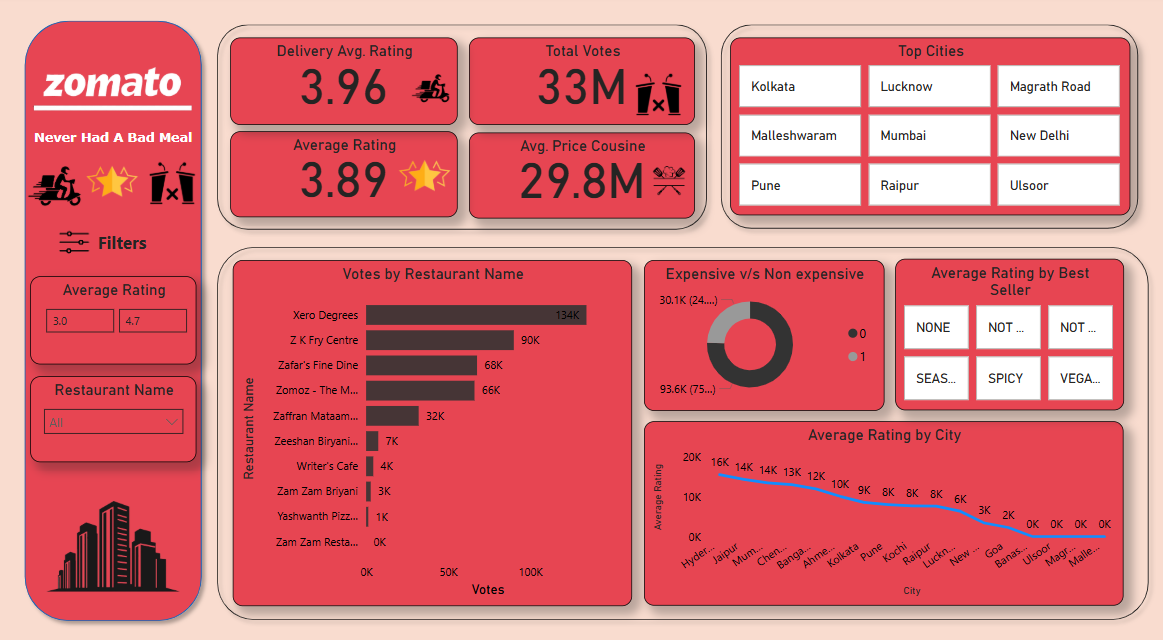

The dashboard page shown, as its layout file describes it:
{"tool":"powerbi","page":{"name":"Page 1","canvas":[1280,720],"ordinal":0},"visuals":[{"type":"shape","box":[230,23,555.6,243.3],"z":0},{"type":"card","title":"Avg. Price Cousine","fields":{"Values":["Sum(data.Avg_Price_Cuisine)"]},"box":[515.7,151.3,248.2,94.4],"z":1000},{"type":"card","title":"Average Rating","fields":{"Values":["data.Avg. rating measure"]},"box":[254.2,148.9,249.4,94.4],"z":2000},{"type":"card","title":"Total Votes","fields":{"Values":["Sum(data.Total_Votes)"]},"box":[515.7,47.2,248.2,95.6],"z":3000},{"type":"card","title":"Delivery Avg. Rating","fields":{"Values":["data.delivery avg rating"]},"box":[254.2,46,249.4,95.6],"z":4000},{"type":"shape","box":[18.5,18.5,212.4,677.1],"z":5000},{"type":"clusteredBarChart","title":"Votes by Restaurant Name","fields":{"Category":["data.Restaurant_Name"],"Y":["data.votess"]},"box":[256.6,290.5,438.2,380.1],"z":6000},{"type":"image","box":[8.6,5.7,232.3,179.6],"z":7000},{"type":"textbox","box":[18.5,142.5,212.4,52.7],"z":8000},{"type":"image","box":[18.2,154.9,89.6,111.4],"z":9000},{"type":"image","box":[430.9,142.8,72.6,111.4],"z":10000},{"type":"shape","box":[230.9,268,1040.5,427.6],"z":11000},{"type":"image","box":[441.8,62.9,66.6,79.9],"z":12000},{"type":"image","box":[671.8,72.6,102.9,72.6],"z":13000},{"type":"image","box":[671.8,169.5,127.1,67.8],"z":14000},{"type":"image","box":[88.4,142.8,72.6,123.5],"z":15000},{"type":"image","box":[138,170.7,102.9,72.6],"z":16000},{"type":"donutChart","title":"Expensive v/s Non expensive","fields":{"Y":["CountNonNull(data.Is_Expensive)"],"Category":["data.Is_Expensive"]},"box":[708.4,290.8,263.7,165.3],"z":17000},{"type":"lineChart","title":"Average Rating by City","fields":{"Category":["data.City"],"Y":["CountNonNull(data.Average_Rating)"]},"box":[708.1,468.5,526.6,202.2],"z":18000},{"type":"shape","box":[784,22.8,476.1,242.3],"z":19000},{"type":"advancedSlicerVisual","title":"Top Cities","fields":{"Values":["data.City"]},"box":[802.5,47,439,195.3],"z":20000},{"type":"slicer","title":"Average Rating","fields":{"Values":["data.Average_Rating"]},"box":[34.2,309.3,182.4,96.9],"z":21000},{"type":"textbox","box":[28.5,253.7,212.4,37.1],"z":22000},{"type":"image","box":[42.8,235.2,79.8,74.1],"z":23000},{"type":"slicer","title":"Restaurant Name","fields":{"Values":["data.Restaurant_Name Hierarchy.Restaurant_Name"]},"box":[34.2,419.1,182.4,94.1],"z":24000},{"type":"image","box":[18.5,10,212.4,228.1],"z":25000},{"type":"advancedSlicerVisual","title":" Average Rating by Best Seller","fields":{"Values":["data.Best_Seller"]},"box":[983.5,289.4,250.9,166.8],"z":26000},{"type":"image","box":[31.4,513.1,186.7,183.9],"z":27000}]}

Visuals, with their boxes in screenshot pixels (x1, y1, x2, y2), scaled from the page's 1280x720 canvas onto the 1163x640 screenshot:
shape: pyautogui.locateOnScreen(209, 20, 714, 237)
"Avg. Price Cousine" card: pyautogui.locateOnScreen(469, 134, 694, 218)
"Average Rating" card: pyautogui.locateOnScreen(231, 132, 458, 216)
"Total Votes" card: pyautogui.locateOnScreen(469, 42, 694, 127)
"Delivery Avg. Rating" card: pyautogui.locateOnScreen(231, 41, 458, 126)
shape: pyautogui.locateOnScreen(17, 16, 210, 618)
"Votes by Restaurant Name" clusteredBarChart: pyautogui.locateOnScreen(233, 258, 631, 596)
image: pyautogui.locateOnScreen(8, 5, 219, 165)
textbox: pyautogui.locateOnScreen(17, 127, 210, 174)
image: pyautogui.locateOnScreen(17, 138, 98, 237)
image: pyautogui.locateOnScreen(392, 127, 457, 226)
shape: pyautogui.locateOnScreen(210, 238, 1155, 618)
image: pyautogui.locateOnScreen(401, 56, 462, 127)
image: pyautogui.locateOnScreen(610, 65, 704, 129)
image: pyautogui.locateOnScreen(610, 151, 726, 211)
image: pyautogui.locateOnScreen(80, 127, 146, 237)
image: pyautogui.locateOnScreen(125, 152, 219, 216)
"Expensive v/s Non expensive" donutChart: pyautogui.locateOnScreen(644, 258, 883, 405)
"Average Rating by City" lineChart: pyautogui.locateOnScreen(643, 416, 1122, 596)
shape: pyautogui.locateOnScreen(712, 20, 1145, 236)
"Top Cities" advancedSlicerVisual: pyautogui.locateOnScreen(729, 42, 1128, 215)
"Average Rating" slicer: pyautogui.locateOnScreen(31, 275, 197, 361)
textbox: pyautogui.locateOnScreen(26, 226, 219, 258)
image: pyautogui.locateOnScreen(39, 209, 111, 275)
"Restaurant Name" slicer: pyautogui.locateOnScreen(31, 373, 197, 456)
image: pyautogui.locateOnScreen(17, 9, 210, 212)
" Average Rating by Best Seller" advancedSlicerVisual: pyautogui.locateOnScreen(894, 257, 1122, 406)
image: pyautogui.locateOnScreen(29, 456, 198, 620)
